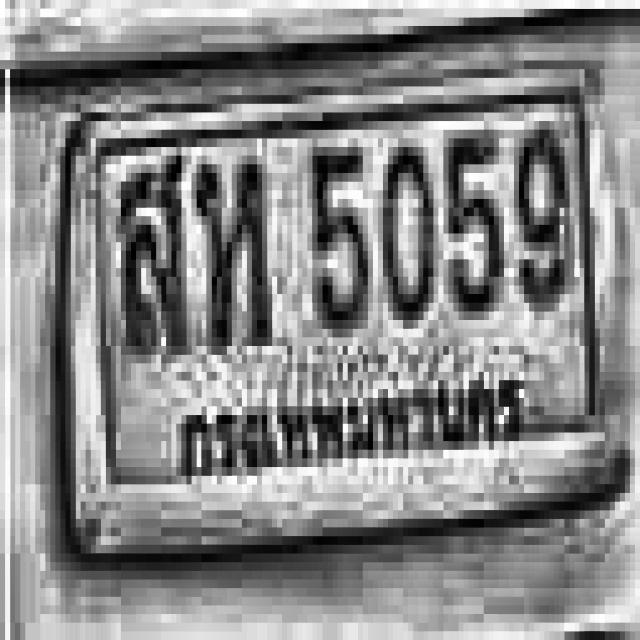license-plate: (35, 61, 631, 560)
